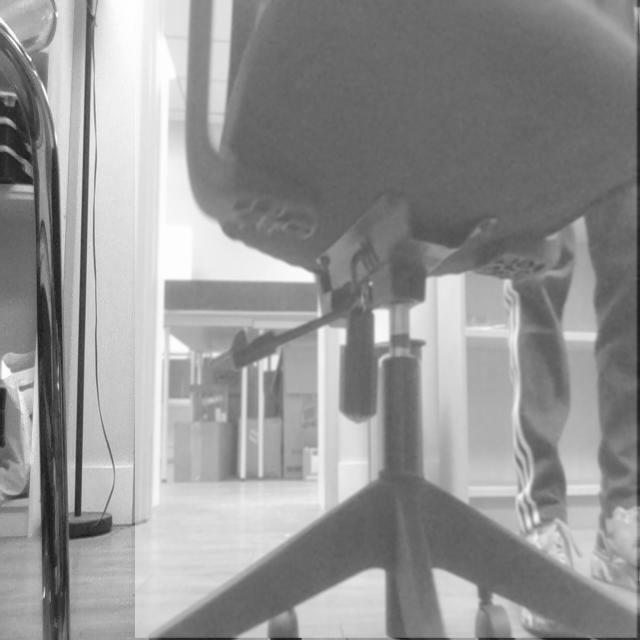chair: (136, 1, 640, 640)
